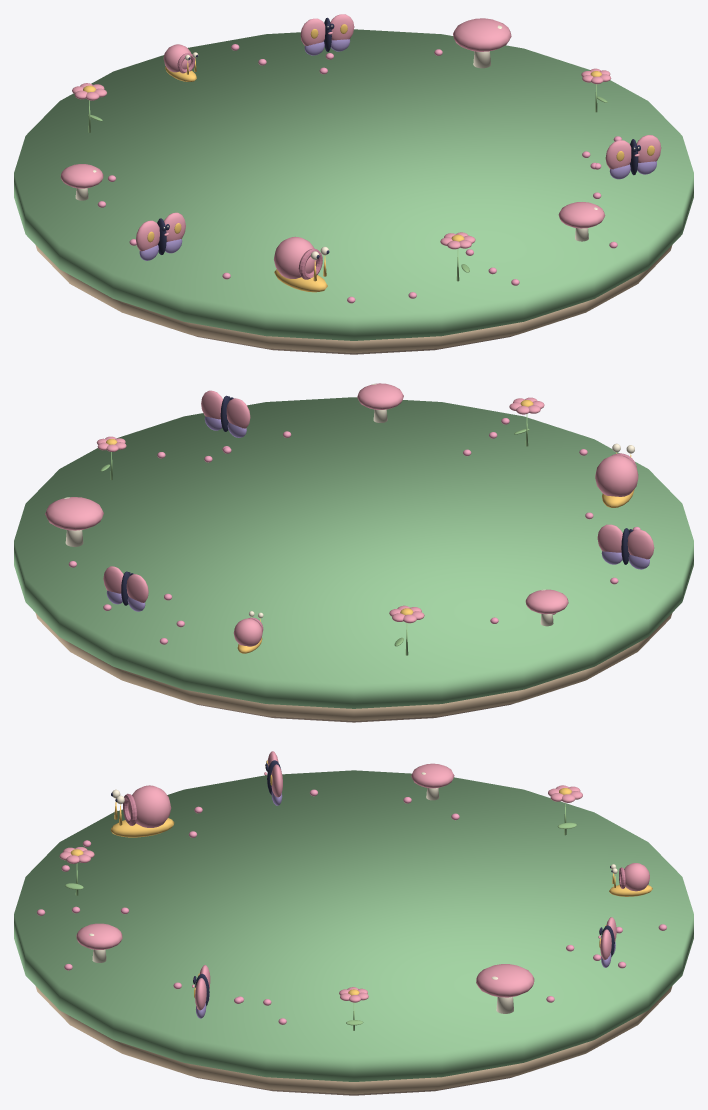
File: world.glb
3 renders of one model, top to bottom at view 1: azimuth 30°, elevation 25°; view 2: azimuth 150°, elevation 25°; view 3: azimuth 270°, elevation 25°, orthographic.
Parts seen in each view (by area): view 1: Cone, Cone.001, snail.002, butterfly.003, mushroom.001, butterfly.002, butterfly.001, mushroom.003, snail.001, mushroom.002, Cone.002, flower.003 (+1 smaller); view 2: Cone, Cone.001, snail.002, butterfly.002, mushroom.001, butterfly.003, butterfly.001, mushroom.003, mushroom.002, snail.001, flower.002, Cone.002 (+1 smaller); view 3: Cone, Cone.001, snail.002, mushroom.001, mushroom.003, snail.001, mushroom.002, butterfly.002, butterfly.003, butterfly.001, flower.002, flower.003 (+1 smaller).
Boxes of the visible parts, <box> form: Cone: <box>14,29,693,340</box>; Cone.001: <box>35,245,672,353</box>; snail.002: <box>274,236,329,292</box>; butterfly.003: <box>605,135,661,179</box>; mushroom.001: <box>453,18,511,68</box>; butterfly.002: <box>136,212,185,260</box>; butterfly.001: <box>300,14,354,55</box>; mushroom.003: <box>558,202,605,241</box>; snail.001: <box>163,44,198,81</box>; mushroom.002: <box>60,164,103,200</box>; Cone.002: <box>193,335,514,354</box>; flower.003: <box>440,232,475,281</box>; Cone: <box>14,397,693,708</box>; Cone.001: <box>35,613,672,720</box>; snail.002: <box>595,443,638,507</box>; butterfly.002: <box>597,524,654,569</box>; mushroom.001: <box>45,497,103,546</box>; butterfly.003: <box>201,390,250,437</box>; butterfly.001: <box>103,566,148,611</box>; mushroom.003: <box>357,383,403,422</box>; mushroom.002: <box>525,589,568,626</box>; snail.001: <box>233,611,263,653</box>; flower.002: <box>389,605,424,655</box>; Cone.002: <box>192,703,515,722</box>; Cone: <box>14,770,693,1081</box>; Cone.001: <box>35,986,672,1094</box>; snail.002: <box>110,785,174,837</box>; mushroom.001: <box>476,964,534,1013</box>; mushroom.003: <box>76,923,122,962</box>; snail.001: <box>609,863,652,896</box>; mushroom.002: <box>411,763,454,800</box>; butterfly.002: <box>264,751,282,805</box>; butterfly.003: <box>192,965,210,1018</box>; butterfly.001: <box>598,917,616,967</box>; flower.002: <box>548,785,582,835</box>; flower.003: <box>59,847,94,895</box>.
Bounding box in the file's own units: 9.6 × 1.52 × 9.6.
